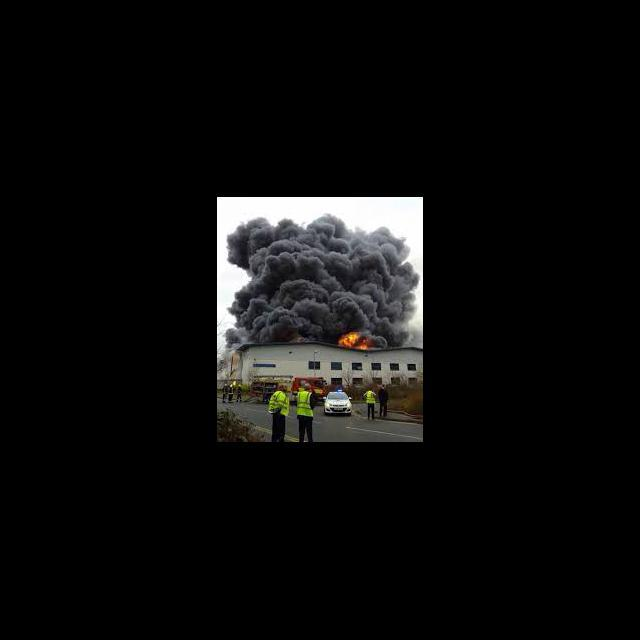Fire: (338, 332, 372, 351)
Smoke: (224, 215, 421, 351)
